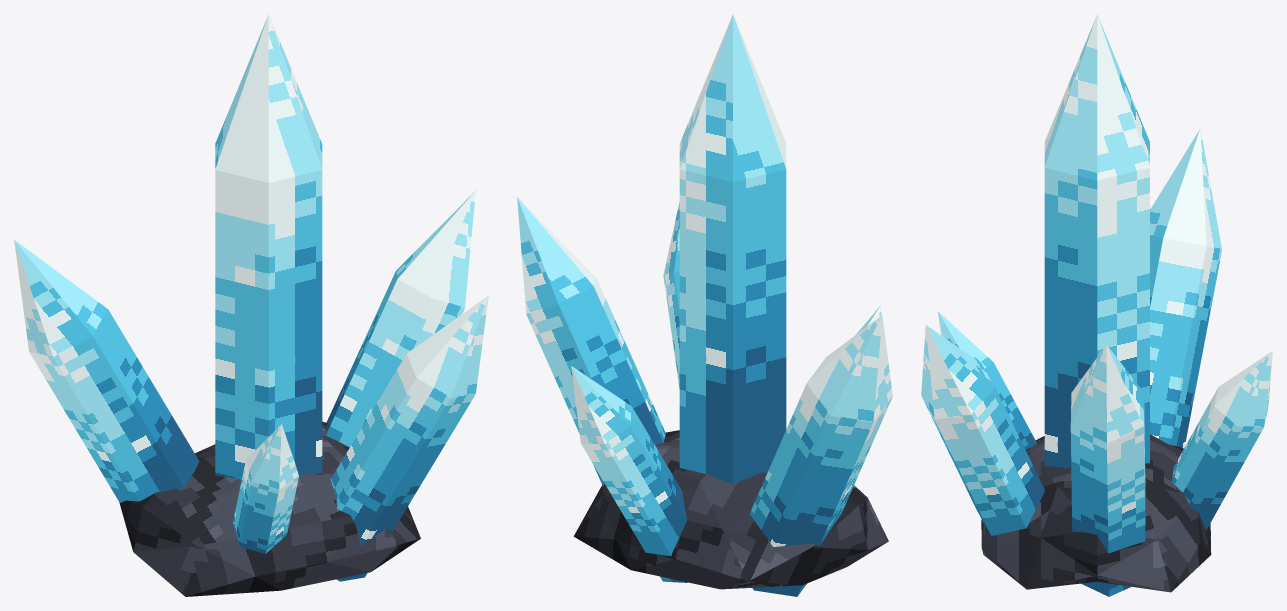
The model's file is crystal.glb.
3 views of the same model, side by side, from view 1: azimuth 30°, elevation 25°; view 2: azimuth 150°, elevation 25°; view 3: azimuth 270°, elevation 25° (orthographic).
Visible parts, largest first — view 1: crystal; view 2: crystal; view 3: crystal.
Boxes of the visible parts, left/top/right/bottom form: crystal: left=14, top=14, right=488, bottom=596; crystal: left=517, top=14, right=892, bottom=596; crystal: left=921, top=14, right=1272, bottom=596.
Bounding box in the file's own units: 1.27 × 1.6 × 0.9467.
2 materials, 2 textured.
